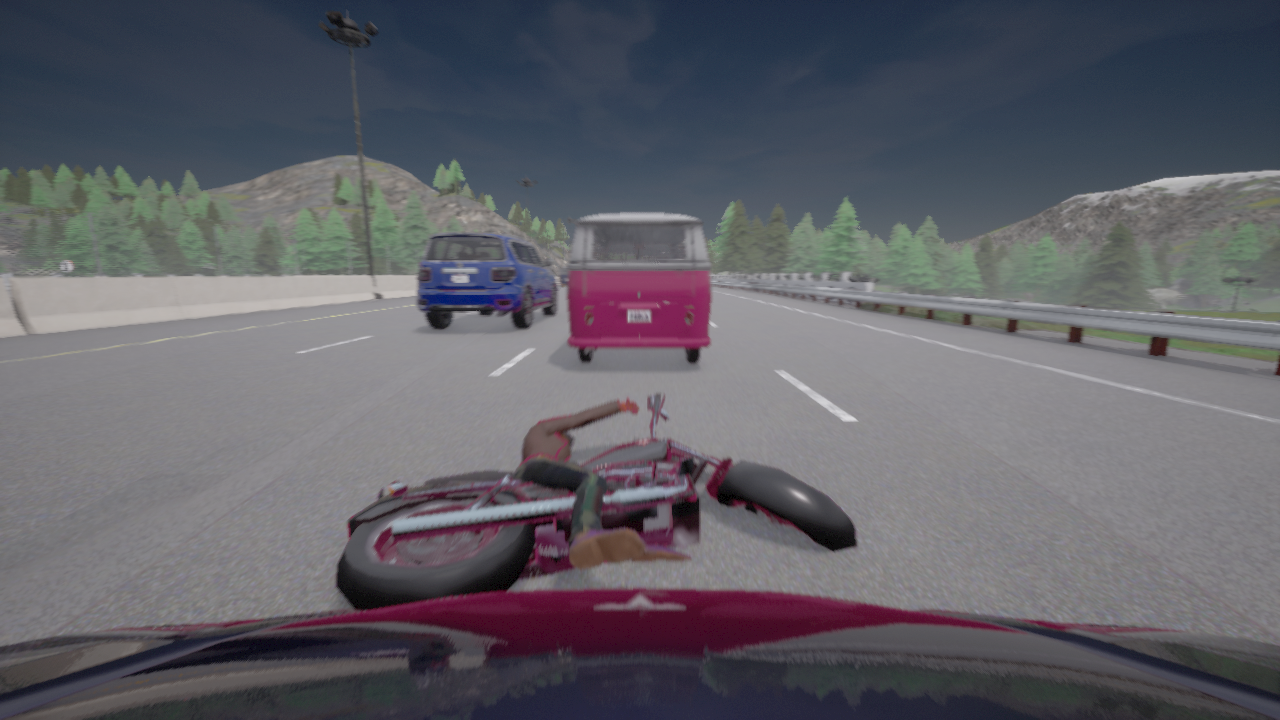cyclist: (0, 588, 1279, 719), (336, 394, 856, 610), (567, 213, 710, 362), (417, 232, 557, 328), (559, 267, 567, 286)
